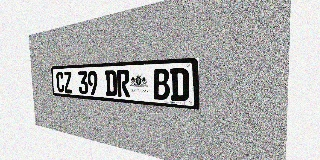3: (78, 71, 88, 94)
9: (87, 71, 98, 95)
B: (153, 68, 170, 100)
C: (56, 72, 64, 93)
D: (170, 68, 189, 102), (105, 70, 117, 96)
R: (117, 70, 130, 97)
Z: (63, 71, 72, 93)
